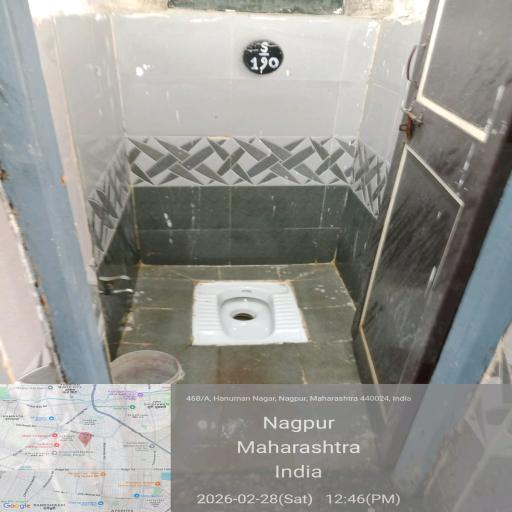clean_floor: (23, 16, 497, 235)
clean_indian: (171, 270, 332, 365)
partial_dirty_floor: (120, 261, 474, 511)
